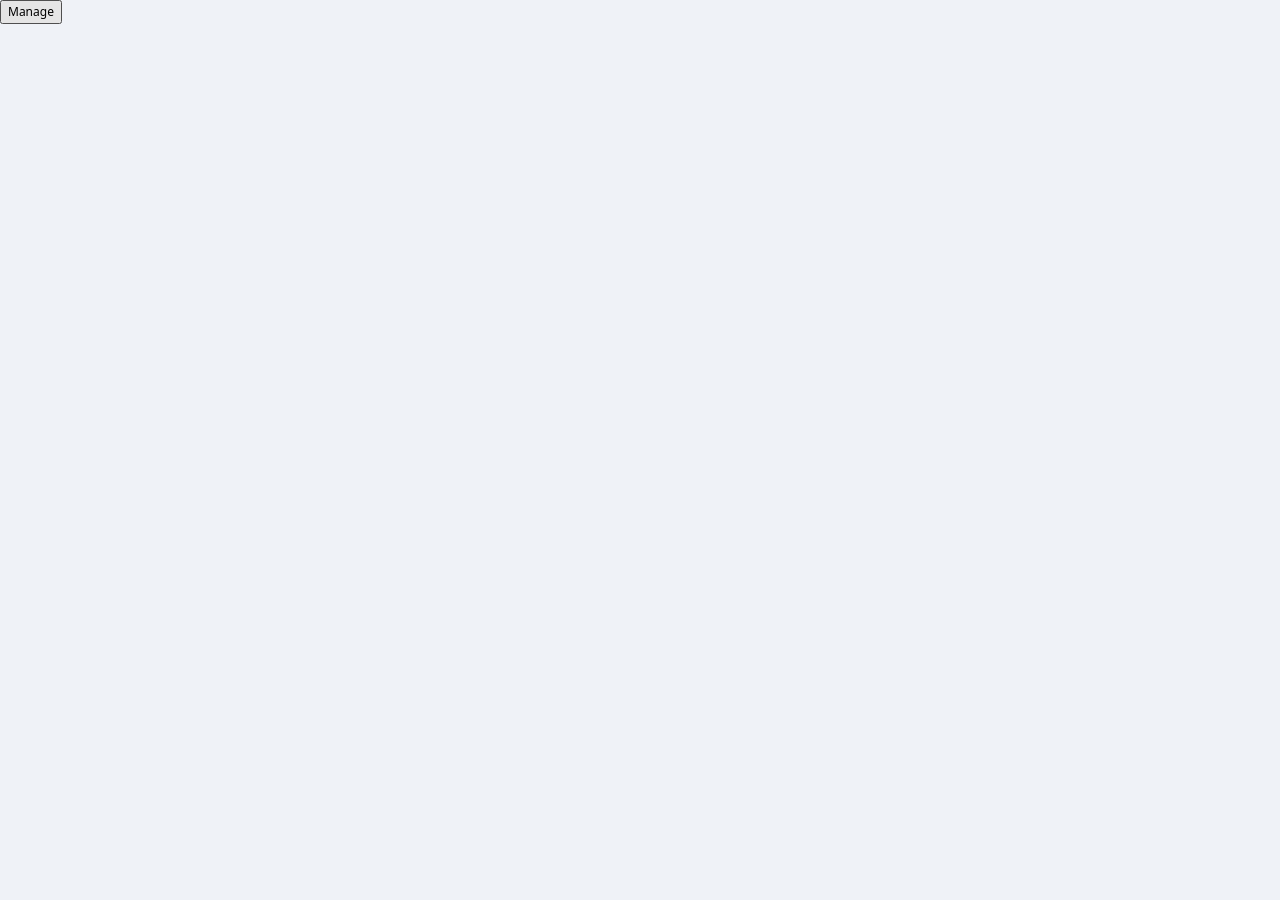
it: requires the exact database name and refreshes a removed active database
The width and height of the screenshot is (1280, 900).
Later steps or results of the test are not shown.
Click the button with aria-label "Manage Sales.sqlite3": (31, 12) [0,0,62,24]
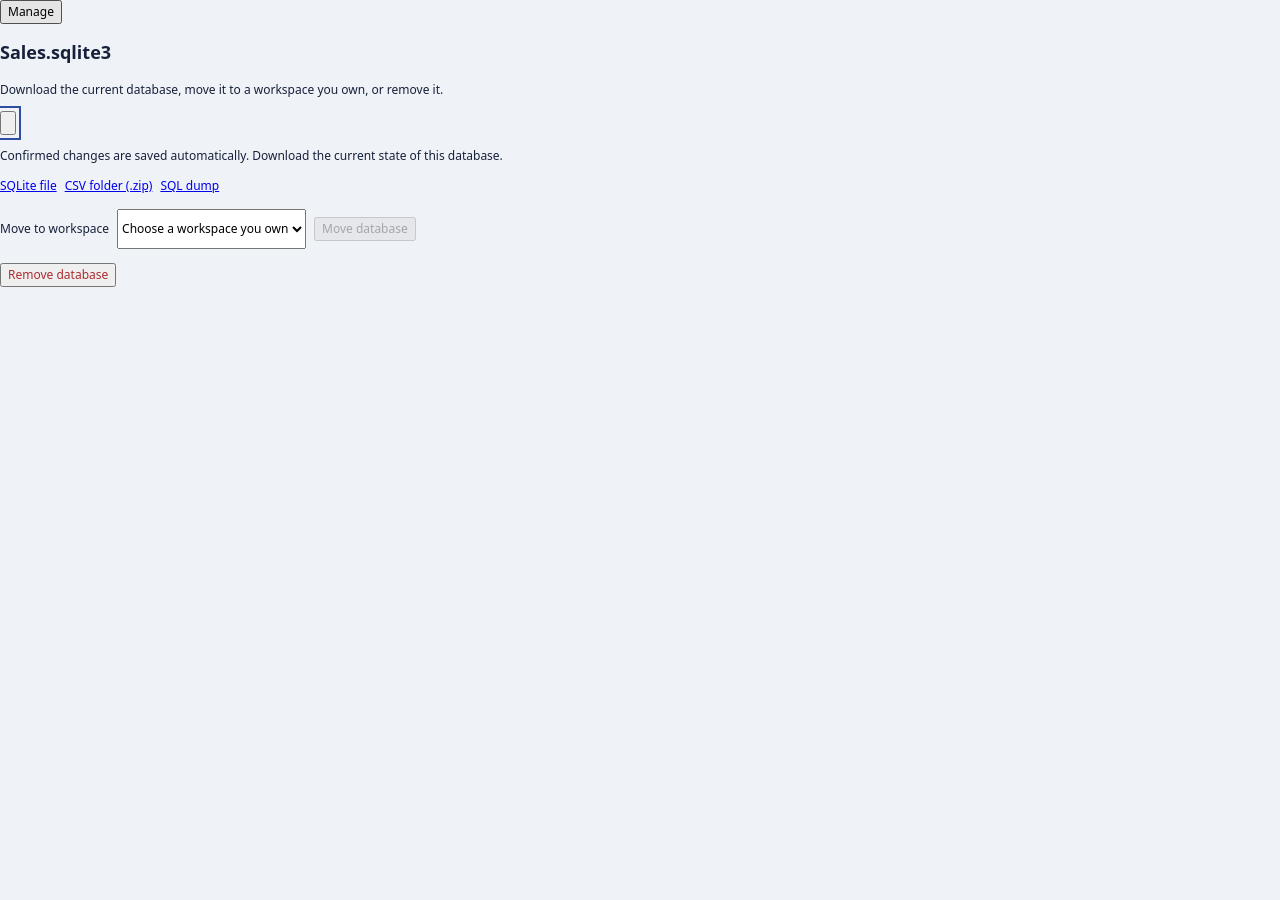
Click the button "Remove database": (58, 275) [0,263,116,287]
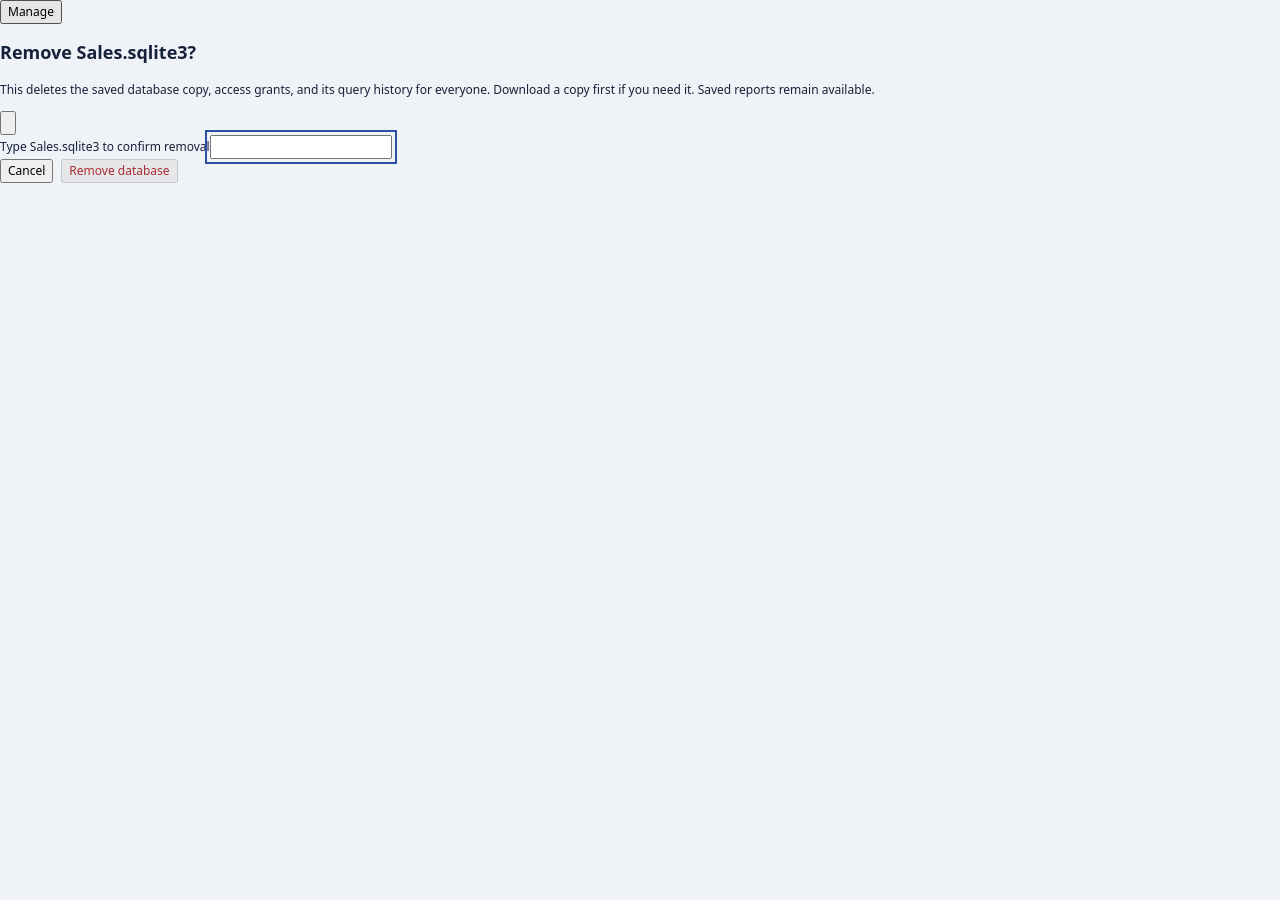
Now the button "Remove database" is disabled, box [61,159,178,183]
In the field: (301, 147) [210,135,392,159], type "sales.sqlite3"
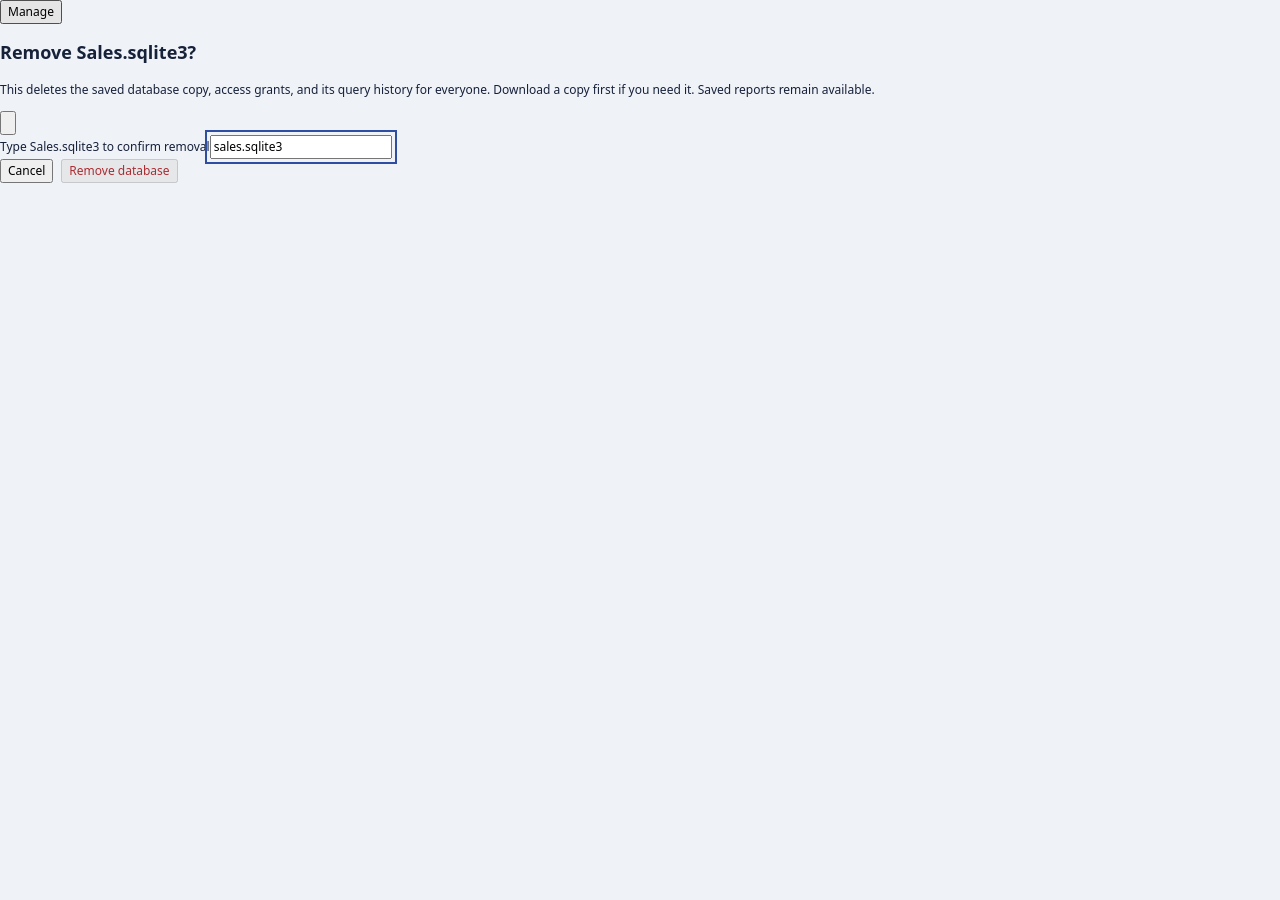
Now the button "Remove database" is disabled, box [61,159,178,183]
